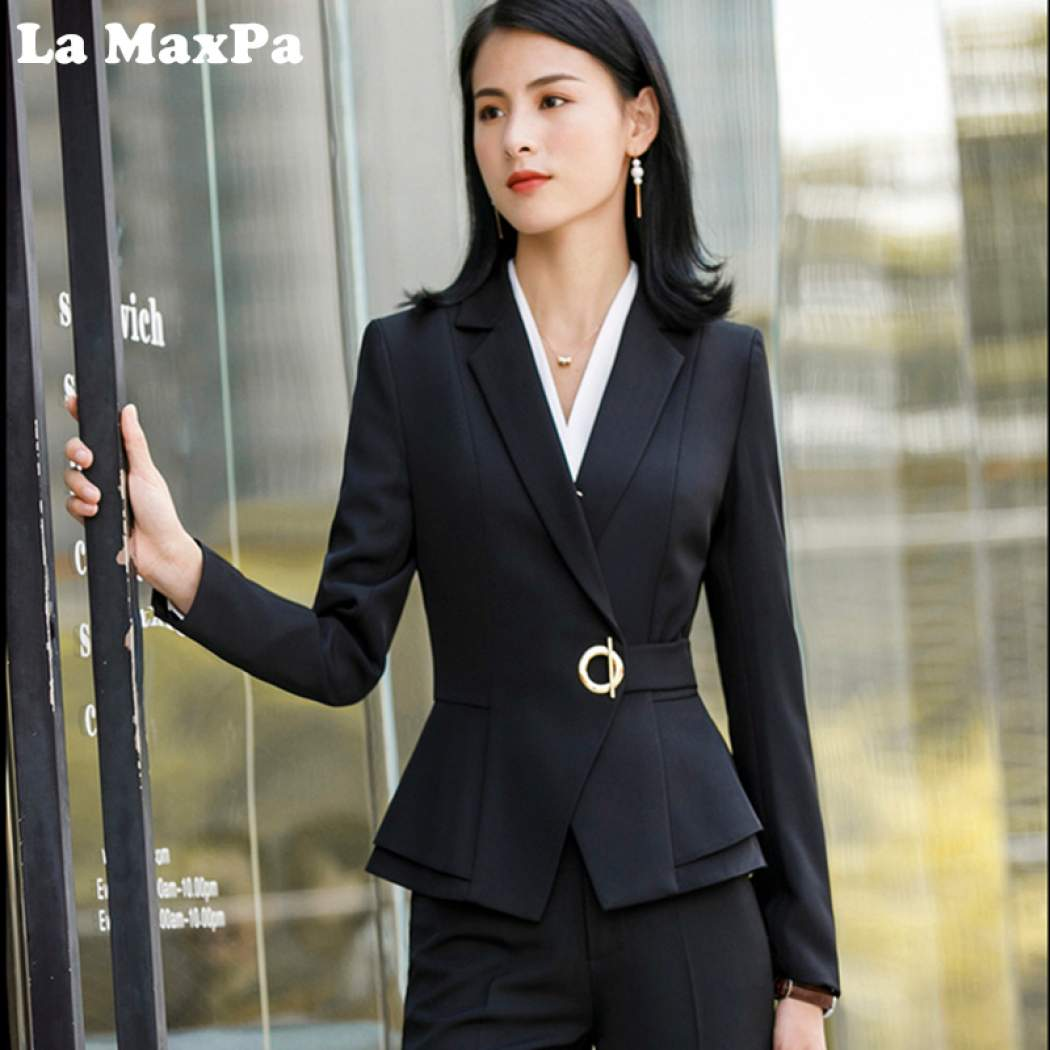F_W_suit jacket: (155, 247, 902, 974)
